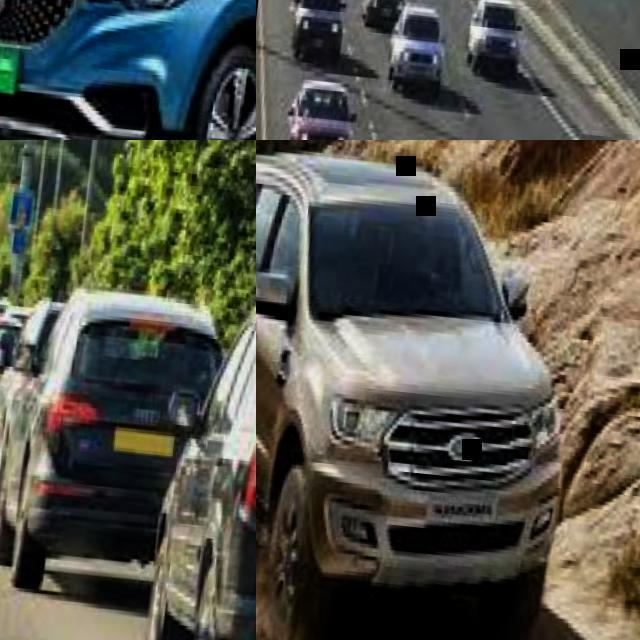car: (256, 154, 566, 630), (0, 287, 224, 615), (0, 0, 262, 141), (390, 3, 444, 95), (289, 79, 357, 150), (468, 1, 524, 77)
